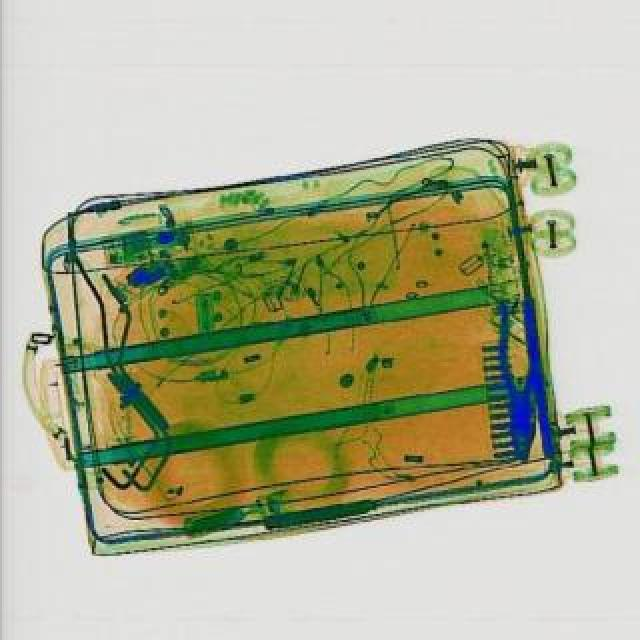wrench: (494, 294, 546, 462)
